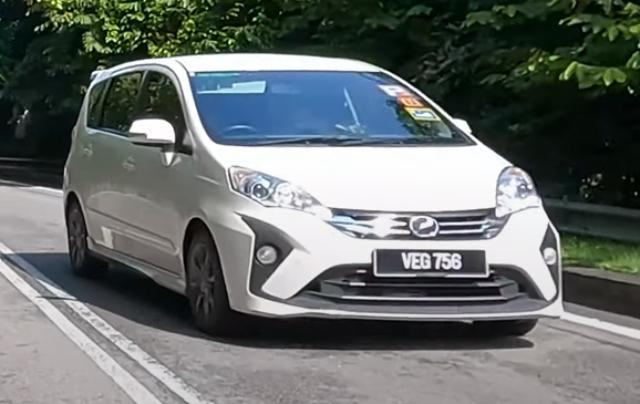License_Plate: (372, 247, 491, 279)
car: (63, 53, 566, 338)
